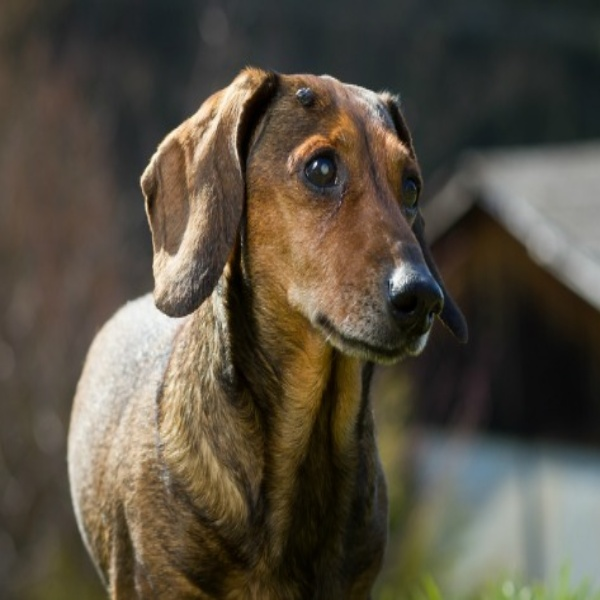dog: (61, 62, 485, 600)
